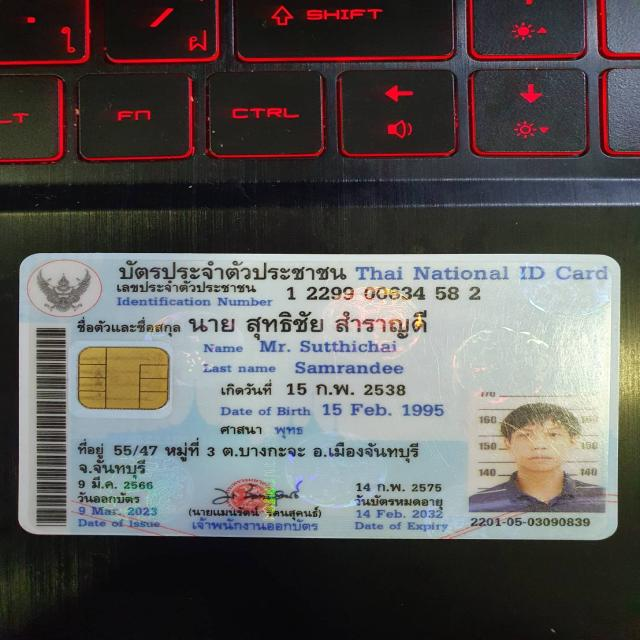Address_th: (74, 435, 434, 480)
Date_of_Birth: (317, 399, 452, 424)
Date_of_Expiry: (350, 507, 456, 523)
Date_of_Issue: (76, 504, 165, 520)
First_Name: (258, 340, 400, 358)
ID_Number: (280, 282, 488, 304)
Image: (467, 390, 606, 513)
Last_Name: (291, 358, 408, 378)
Thai_Name: (179, 304, 448, 342)
